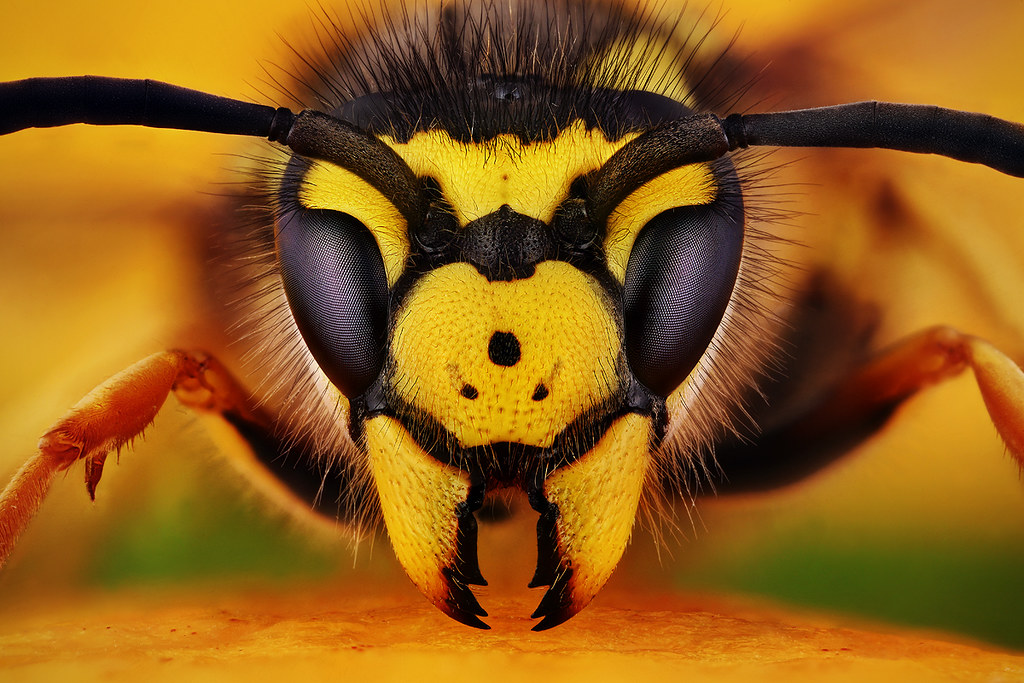chax: (226, 9, 839, 660)
